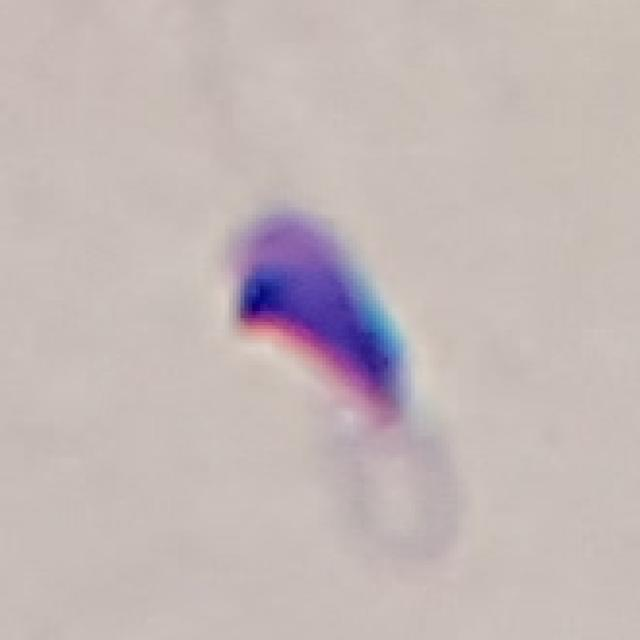non-sperm: (222, 202, 422, 438)
